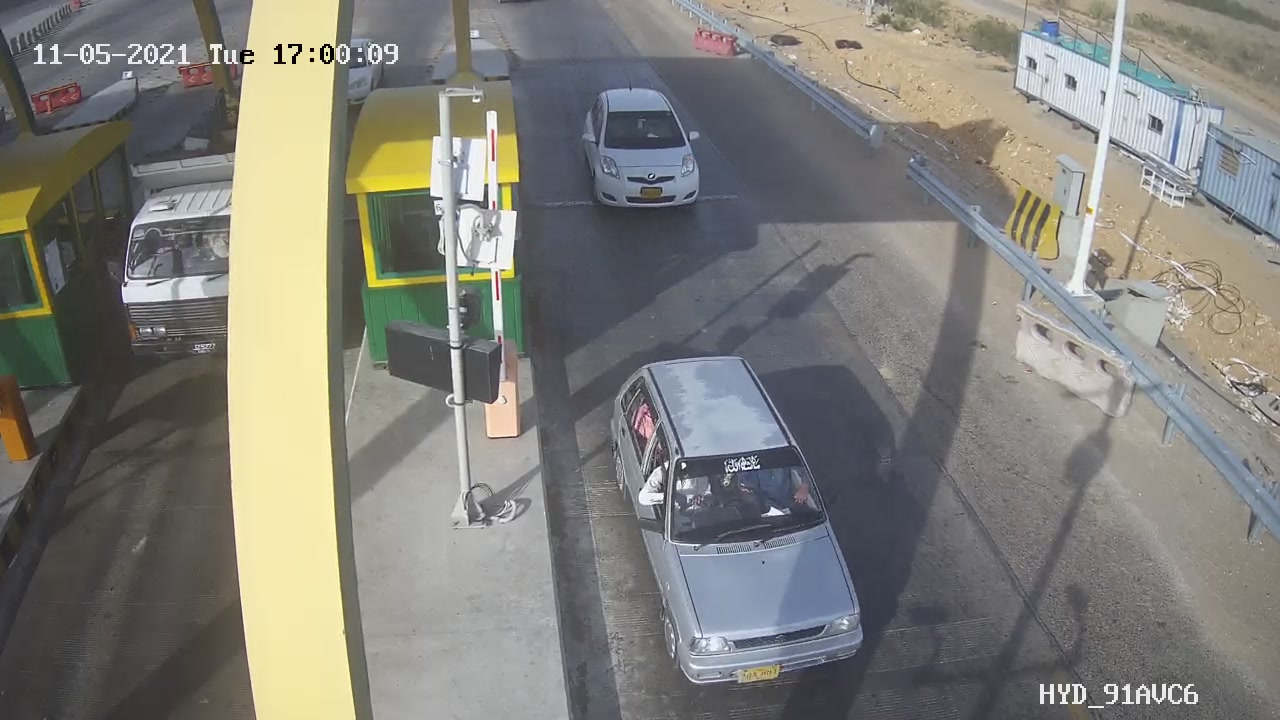F1: (568, 66, 720, 227)
